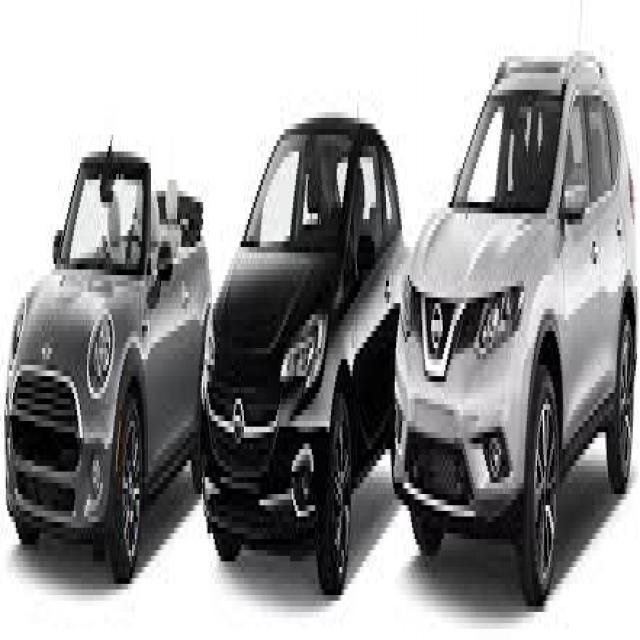Car: (391, 54, 640, 598), (198, 114, 414, 596), (5, 141, 211, 572)
